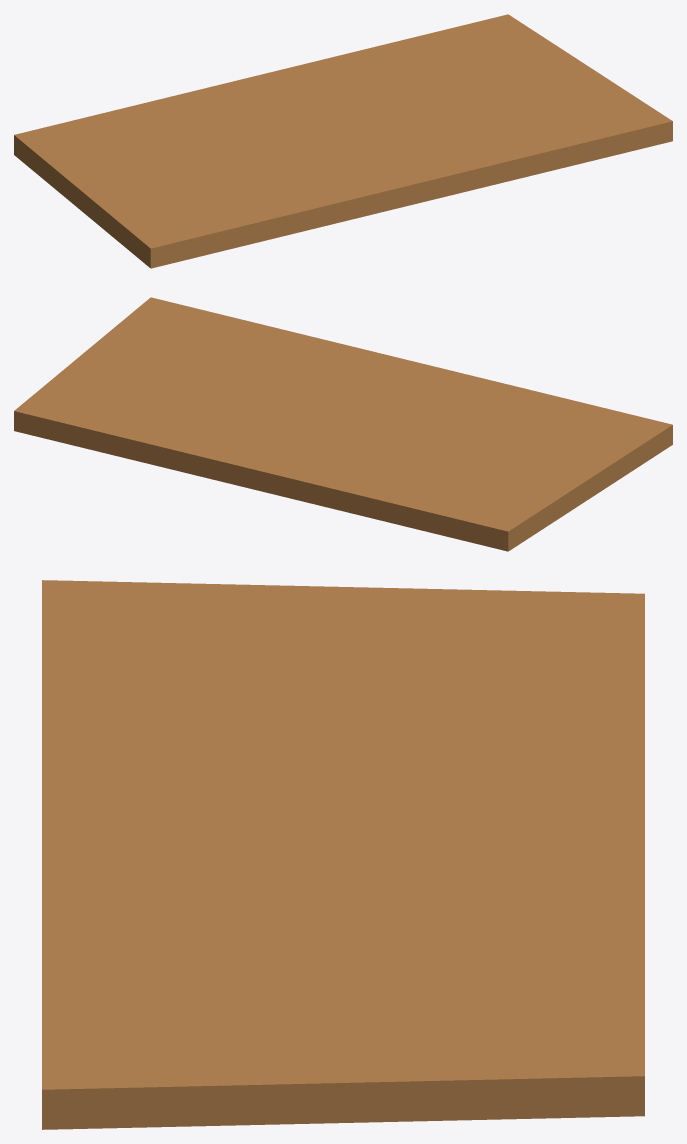
File: tabletop.diagnostic.glb
The picture shows the model from 3 angles, top to bottom: view 1: azimuth 30°, elevation 25°; view 2: azimuth 150°, elevation 25°; view 3: azimuth 270°, elevation 25°; orthographic projection. The views are drawn at different scales.
Parts seen in each view (by area): view 1: tabletop_mesh; view 2: tabletop_mesh; view 3: tabletop_mesh.
Part boxes in pixels (bbox=[...]): tabletop_mesh: bbox=[14, 14, 672, 268]; tabletop_mesh: bbox=[14, 297, 672, 551]; tabletop_mesh: bbox=[42, 580, 644, 1129].
Size of the model in its own units: 1500 by 55 by 750.
